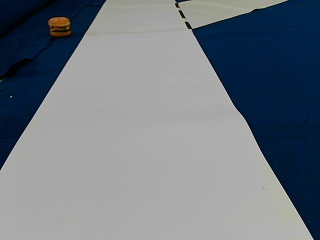burger: (48, 15, 71, 37)
